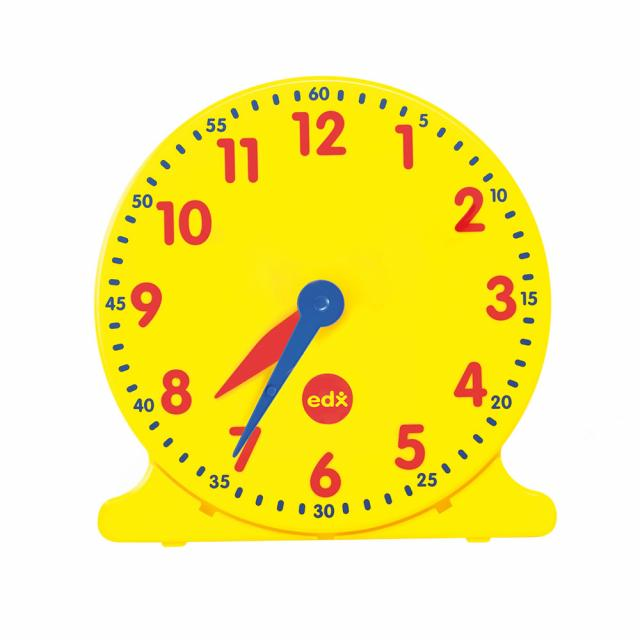clock: (4, 8, 617, 566)
